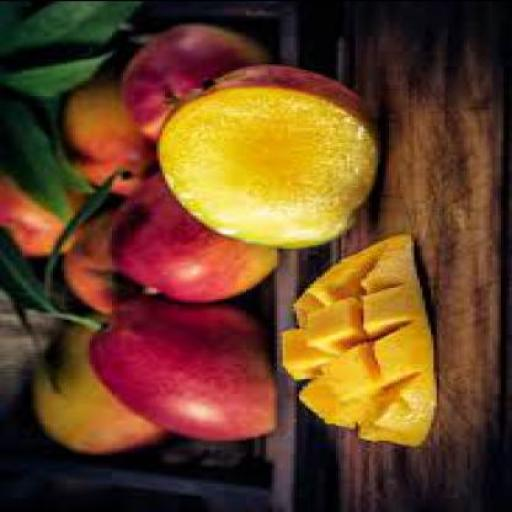biodegradable: (152, 65, 380, 250), (277, 235, 437, 447), (84, 296, 277, 444), (106, 171, 276, 304), (28, 314, 170, 456), (114, 24, 274, 143), (56, 78, 159, 198), (0, 139, 96, 261), (0, 216, 98, 331), (0, 2, 138, 72), (1, 93, 67, 223), (28, 91, 95, 193), (54, 213, 118, 316), (1, 52, 109, 99)
